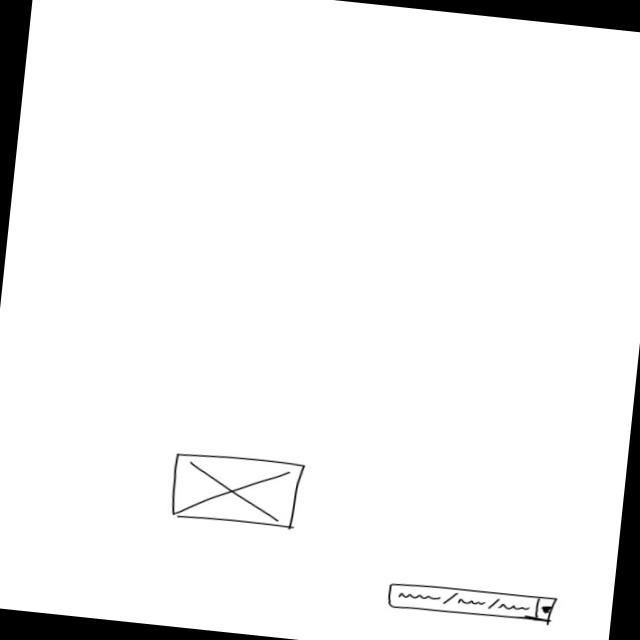image: (167, 449, 308, 532)
select: (386, 579, 559, 628)
